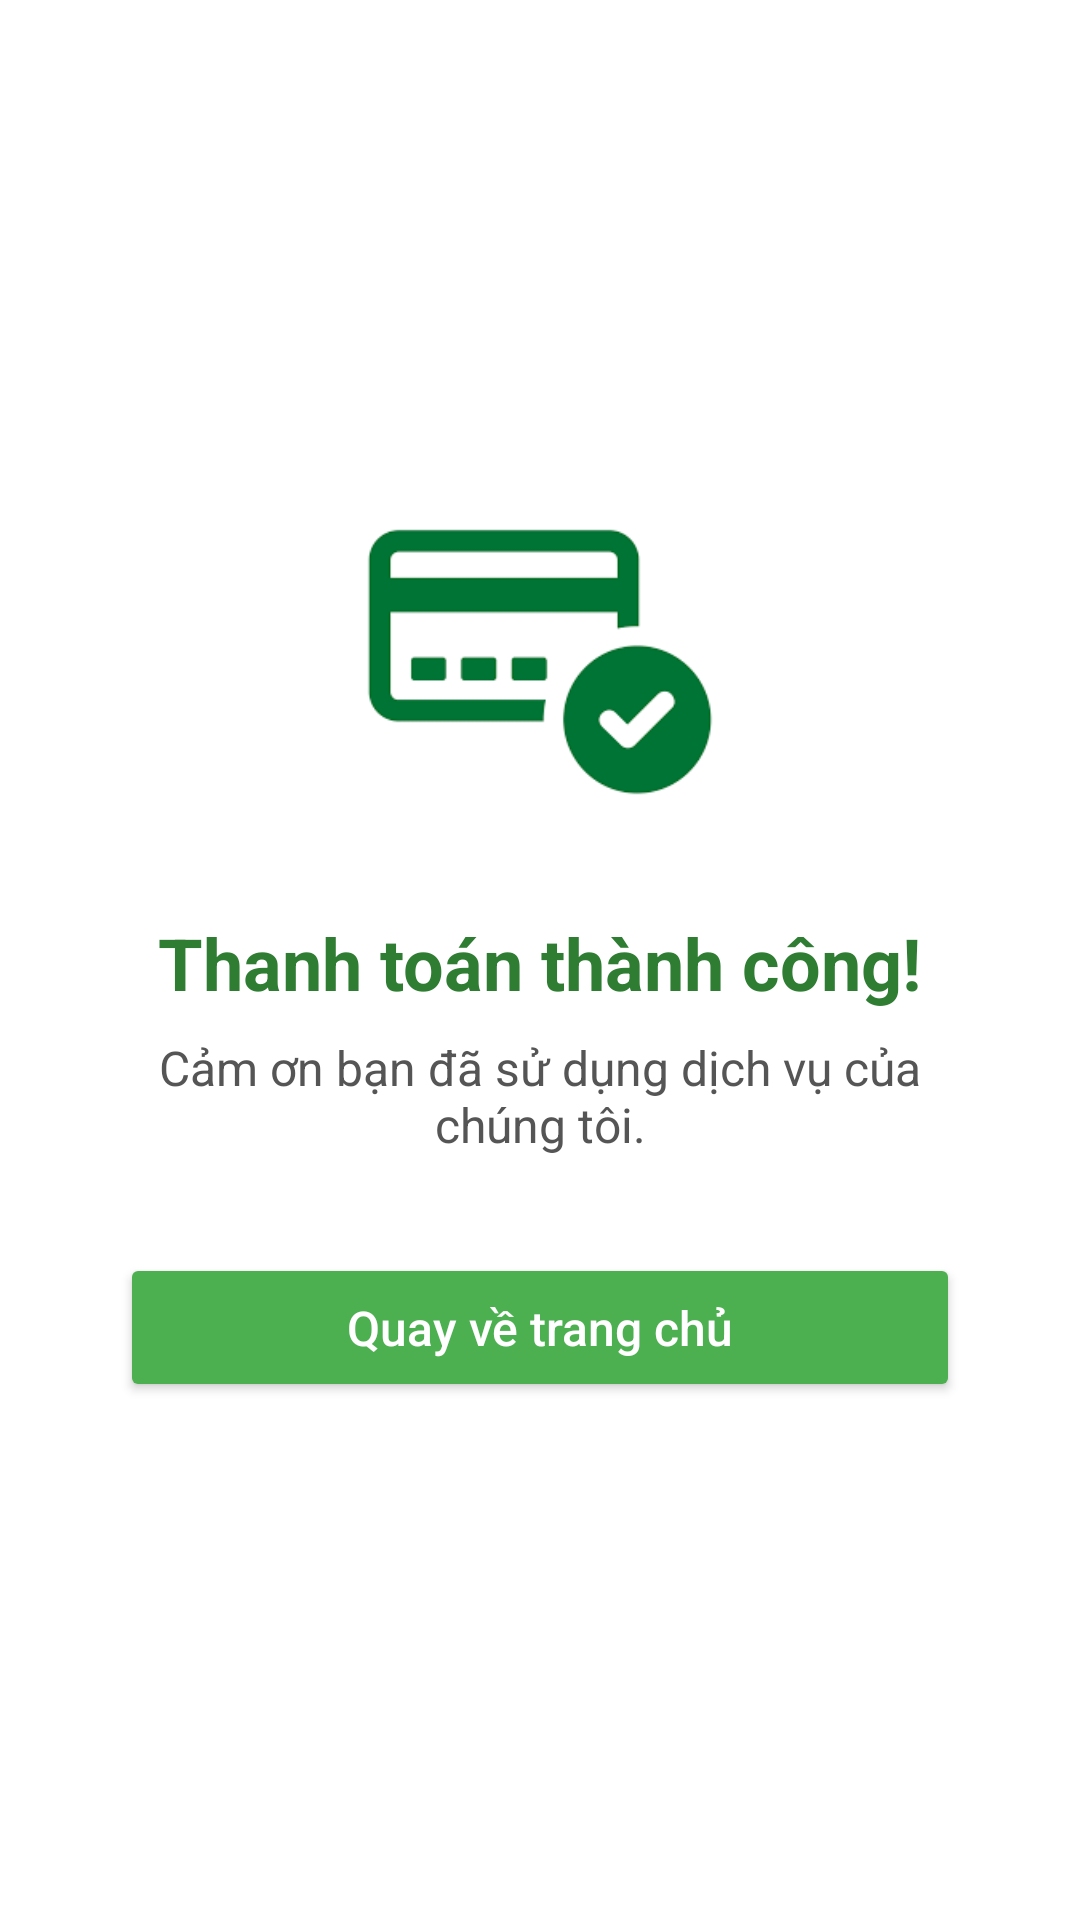

Where to tap for icons on this 1080x1920 app screen, as (x=x, y=y):
Success Icon: (x=540, y=661)
